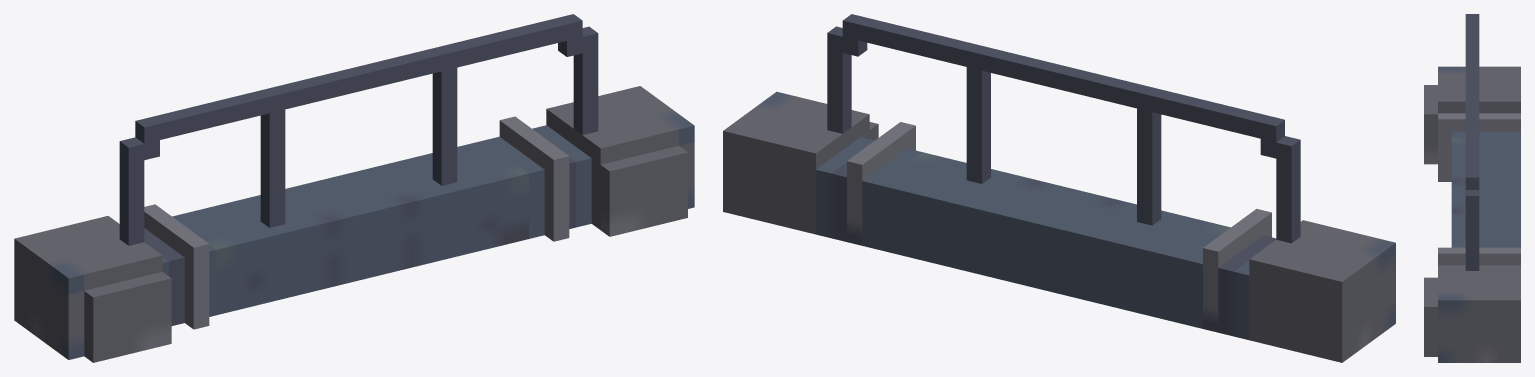
Rendered from Barrier.fbx.
3 views of the same model, side by side, from view 1: azimuth 30°, elevation 25°; view 2: azimuth 150°, elevation 25°; view 3: azimuth 270°, elevation 25° (orthographic). The views are drawn at different scales.
Visible parts, largest first — view 1: Barrier; view 2: Barrier; view 3: Barrier.
Boxes of the visible parts, x1,y1,x2,y2 form: Barrier: [14, 14, 694, 362]; Barrier: [723, 14, 1395, 362]; Barrier: [1424, 14, 1520, 362].
Size of the model in its own units: 400 by 120 by 70.
1 material, 1 textured.
